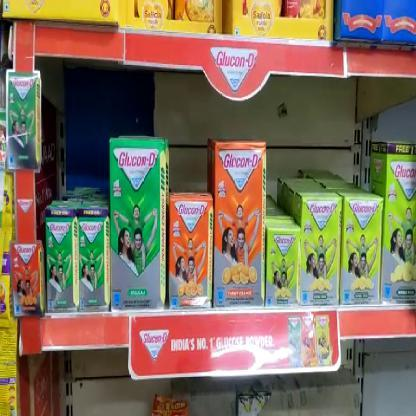Glucon D Nimbu Pani 1-KG: (382, 143, 416, 300), (341, 195, 382, 304), (302, 195, 342, 304)
Glucon D Regular 1-KG: (109, 142, 162, 312)
Glucon D Tangy orange 1-KG: (214, 141, 266, 306), (169, 198, 214, 308)
